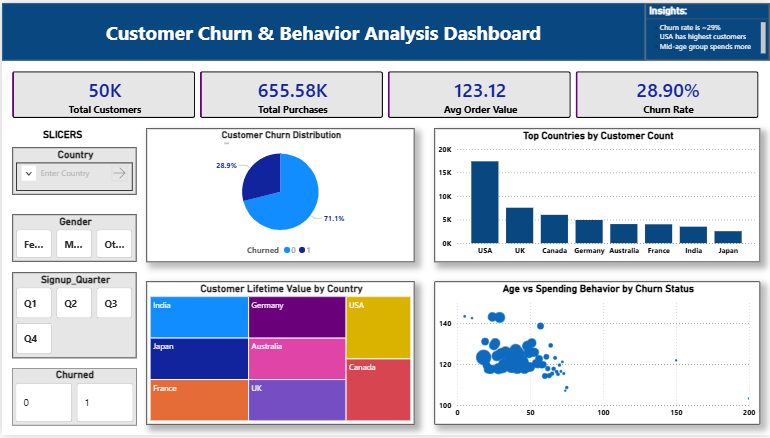

The page's visual inventory and layout, read from the dashboard file:
{"tool":"powerbi","page":{"name":"Page 1","canvas":[1280,720],"ordinal":0},"visuals":[{"type":"cardVisual","fields":{"Data":["CountNonNull(cleaned_dataset.Total_customers)","Sum(cleaned_dataset.Total_Purchases)","Avg(cleaned_dataset.Average_Order_Value)","cleaned_dataset.Churn_Rate"]},"box":[0,96,1280,112],"z":0},{"type":"pieChart","title":"Customer Churn Distribution","fields":{"Y":["CountNonNull(cleaned_dataset.Total_customers)"],"Category":["cleaned_dataset.Churned"]},"box":[240,208,448,224],"z":1000},{"type":"clusteredColumnChart","title":"Top Countries by Customer Count","fields":{"Category":["cleaned_dataset.Country"],"Y":["CountNonNull(cleaned_dataset.Total_customers)"]},"box":[720,208,544,224],"z":2000},{"type":"scatterChart","title":"Age vs Spending Behavior by Churn Status","fields":{"X":["cleaned_dataset.Age"],"Size":["Sum(cleaned_dataset.Total_Purchases)"],"Y":["Avg(cleaned_dataset.Average_Order_Value)"]},"box":[720,464,544,240],"z":3000},{"type":"treemap","title":"Customer Lifetime Value by Country","fields":{"Group":["cleaned_dataset.Country"],"Values":["Avg(cleaned_dataset.Lifetime_Value)"]},"box":[240,464,448,240],"z":4000},{"type":"advancedSlicerVisual","fields":{"Values":["cleaned_dataset.Gender"]},"box":[16,352,208,80],"z":5000},{"type":"advancedSlicerVisual","fields":{"Values":["cleaned_dataset.Churned"]},"box":[16,608,208,96],"z":6000},{"type":"textSlicer","fields":{"Values":["cleaned_dataset.Country"]},"box":[16,240,208,80],"z":7000},{"type":"advancedSlicerVisual","fields":{"Values":["cleaned_dataset.Signup_Quarter"]},"box":[16,448,208,144],"z":8000},{"type":"shape","box":[0,0,1072,96],"z":9000},{"type":"textbox","title":"SLICERS","box":[64,208,320,32],"z":10000},{"type":"textbox","title":"Insights:","box":[1072,0,208,96],"z":11000}]}

Visuals, with their boxes in screenshot pixels (x1, y1, x2, y2), scaled from the page's 1280x720 canvas onto the 770x438 screenshot:
cardVisual - CountNonNull(cleaned_dataset.Total_customers) x Sum(cleaned_dataset.Total_Purchases): (x1=0, y1=58, x2=769, y2=127)
"Customer Churn Distribution" pieChart: (x1=144, y1=127, x2=414, y2=263)
"Top Countries by Customer Count" clusteredColumnChart: (x1=433, y1=127, x2=760, y2=263)
"Age vs Spending Behavior by Churn Status" scatterChart: (x1=433, y1=282, x2=760, y2=428)
"Customer Lifetime Value by Country" treemap: (x1=144, y1=282, x2=414, y2=428)
advancedSlicerVisual - cleaned_dataset.Gender: (x1=10, y1=214, x2=135, y2=263)
advancedSlicerVisual - cleaned_dataset.Churned: (x1=10, y1=370, x2=135, y2=428)
textSlicer - cleaned_dataset.Country: (x1=10, y1=146, x2=135, y2=195)
advancedSlicerVisual - cleaned_dataset.Signup_Quarter: (x1=10, y1=273, x2=135, y2=360)
shape: (x1=0, y1=0, x2=645, y2=58)
"SLICERS" textbox: (x1=38, y1=127, x2=231, y2=146)
"Insights:" textbox: (x1=645, y1=0, x2=769, y2=58)
